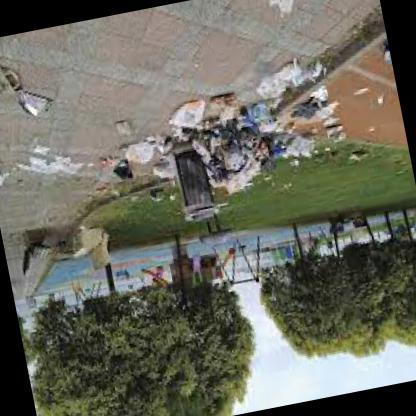Garbage: (195, 87, 288, 190), (262, 56, 314, 102), (162, 95, 220, 135), (292, 83, 340, 127), (0, 49, 34, 105), (15, 78, 60, 116), (97, 139, 133, 184), (214, 84, 249, 126), (122, 124, 158, 158), (286, 130, 312, 163), (270, 0, 306, 23), (112, 113, 140, 140), (222, 172, 245, 202), (190, 134, 214, 162), (324, 107, 344, 136), (354, 75, 377, 100), (0, 157, 15, 193), (305, 53, 324, 79), (155, 164, 171, 182), (378, 96, 390, 113)
